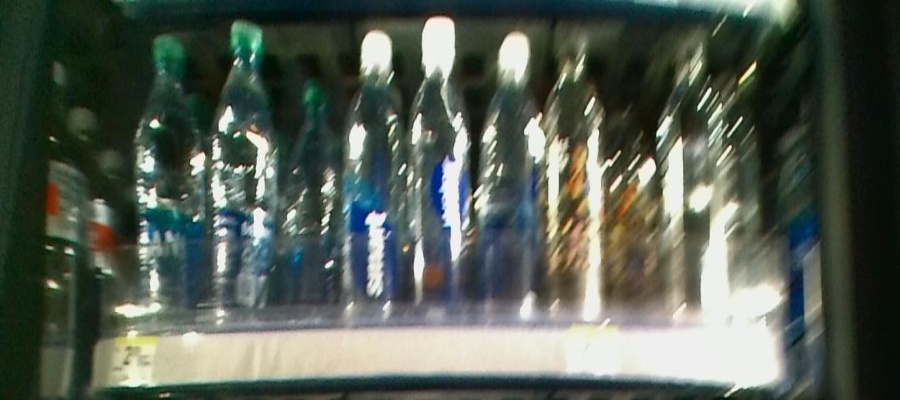bottle: (126, 31, 205, 330), (212, 18, 279, 320), (407, 5, 470, 316), (479, 31, 541, 325), (342, 31, 403, 329), (545, 36, 604, 338), (285, 63, 334, 335)
